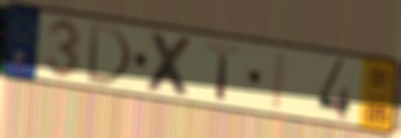3: (44, 17, 84, 81)
4: (314, 55, 355, 125)
D: (84, 20, 135, 89)
I: (270, 49, 289, 114)
T: (205, 41, 243, 103)
X: (144, 29, 197, 102)
